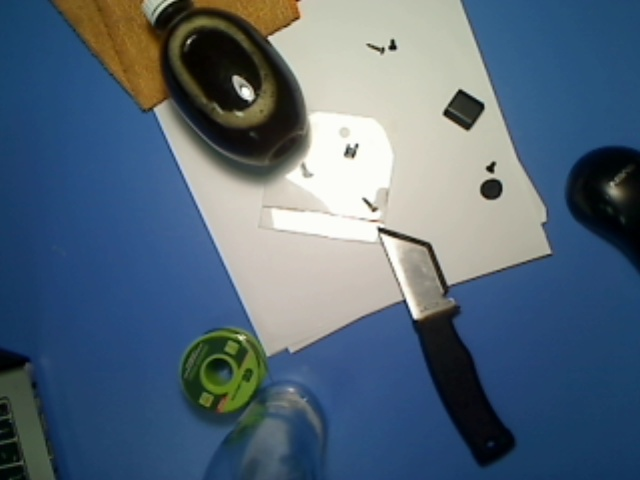plast_bottle: (138, 1, 317, 172)
